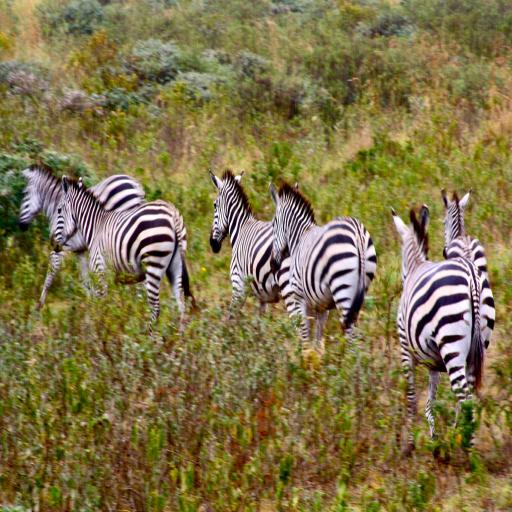Zebra: (18, 160, 496, 454)
